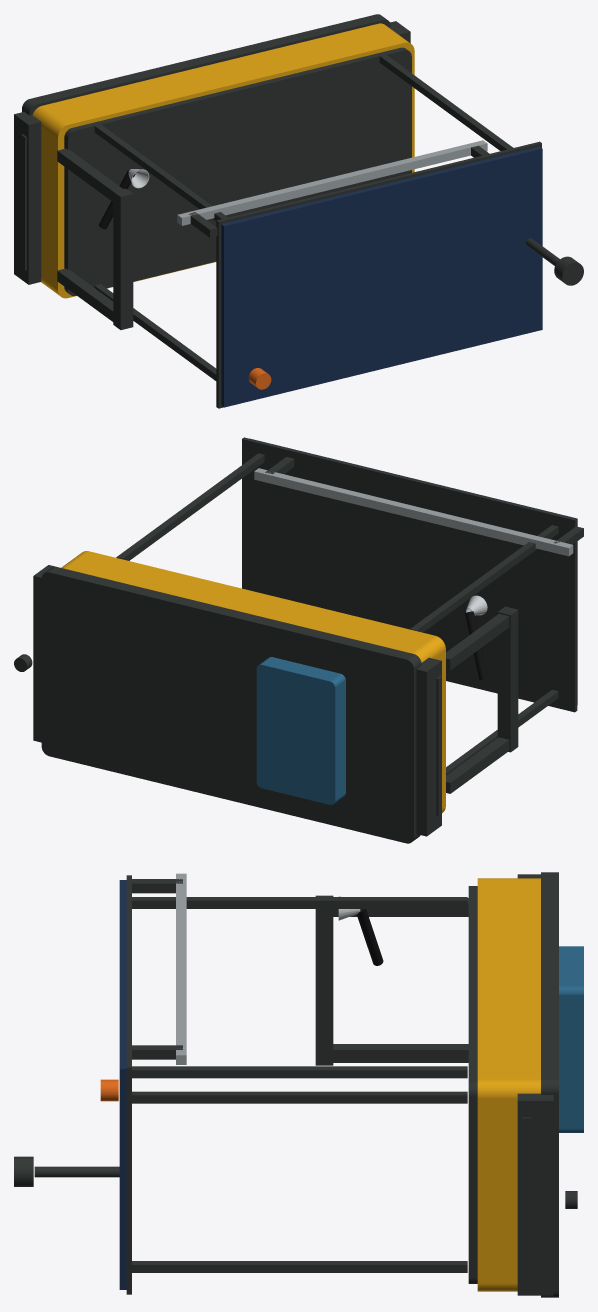
The picture shows the model from 3 angles, top to bottom: view 1: azimuth 30°, elevation 25°; view 2: azimuth 150°, elevation 25°; view 3: azimuth 270°, elevation 25°; orthographic projection. The views are drawn at different scales.
Parts seen in each view (by area): view 1: solar_7, deck_2, body_0, gantry_11, posts_5, bumpers_3, skirt_1, picker_rail_12, roof_frame_6, side_lidars_4, lidar_3d_9, rail_supports_13; view 2: skirt_1, roof_frame_6, water_tank_16, body_0, gantry_11, bumpers_3, posts_5, picker_rail_12, side_lidars_4, rail_supports_13; view 3: body_0, posts_5, gantry_11, bumpers_3, skirt_1, water_tank_16, deck_2, solar_7, roof_frame_6, picker_rail_12, side_lidars_4, rail_supports_13 (+3 smaller).
Boxes of the visible parts, box(x1,y1,x2,y2) form: solar_7: box(221, 146, 542, 407); deck_2: box(64, 47, 411, 295); body_0: box(32, 23, 414, 298); gantry_11: box(57, 148, 133, 329); posts_5: box(94, 54, 513, 380); bumpers_3: box(14, 21, 410, 284); skirt_1: box(22, 14, 390, 115); picker_rail_12: box(177, 140, 487, 225); roof_frame_6: box(216, 141, 541, 408); side_lidars_4: box(21, 134, 26, 270); lidar_3d_9: box(554, 256, 583, 285); rail_supports_13: box(189, 145, 489, 237); skirt_1: box(41, 566, 421, 843); roof_frame_6: box(242, 437, 577, 712); water_tank_16: box(256, 657, 345, 804); body_0: box(61, 551, 445, 812); gantry_11: box(446, 606, 518, 793); bumpers_3: box(33, 565, 441, 836); posts_5: box(116, 453, 558, 775); picker_rail_12: box(254, 468, 573, 556); side_lidars_4: box(436, 676, 441, 816); rail_supports_13: box(265, 457, 583, 544); body_0: box(477, 878, 540, 1291); posts_5: box(132, 897, 467, 1272); gantry_11: box(315, 895, 468, 1065); bumpers_3: box(517, 874, 553, 1295); skirt_1: box(541, 872, 558, 1297); water_tank_16: box(559, 946, 583, 1132); deck_2: box(468, 886, 477, 1283); solar_7: box(119, 880, 126, 1289); roof_frame_6: box(126, 875, 131, 1294); picker_rail_12: box(176, 873, 186, 1064); side_lidars_4: box(522, 1117, 531, 1280); rail_supports_13: box(132, 879, 182, 1059).
Bounding box in the file's own units: 3.09 × 1.4 × 3.19.
